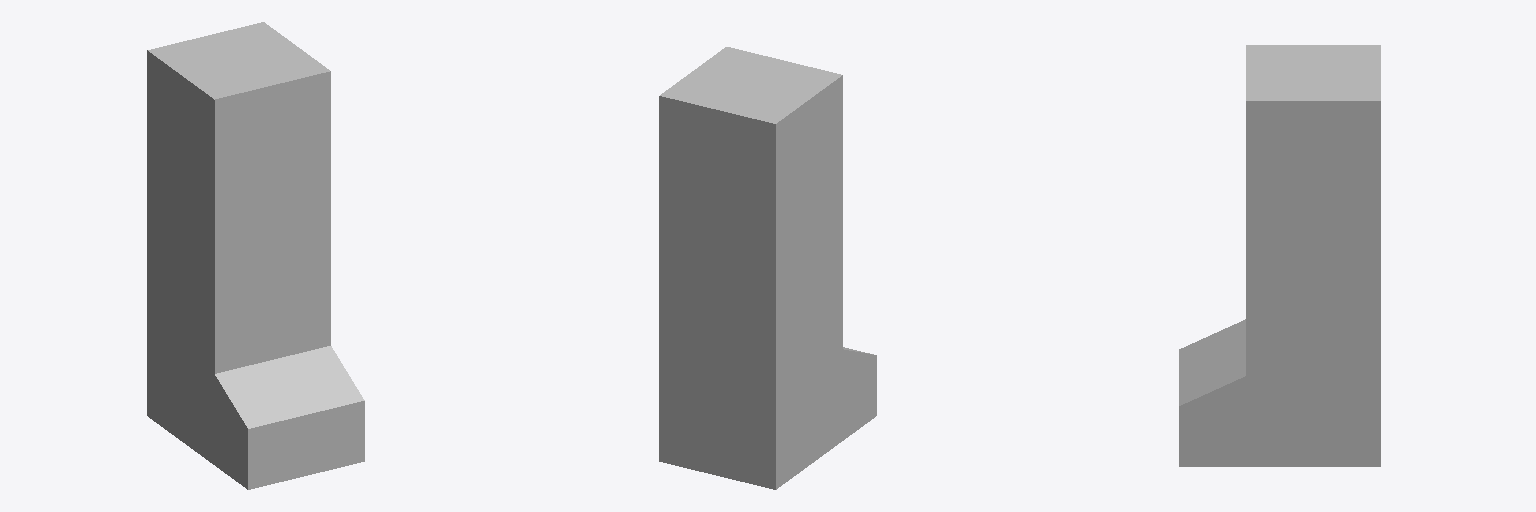
Rendered from playerLLeg.obj.
3 renders of one model, left to right at view 1: azimuth 30°, elevation 25°; view 2: azimuth 150°, elevation 25°; view 3: azimuth 270°, elevation 25°, orthographic.
Parts seen in each view (by area): view 1: LegLeft1; view 2: LegLeft1; view 3: LegLeft1.
Boxes of the visible parts, <box> form: LegLeft1: <box>147,22,364,489</box>; LegLeft1: <box>659,47,876,489</box>; LegLeft1: <box>1179,45,1380,466</box>.
Size of the model in its own units: 2 by 6 by 3.